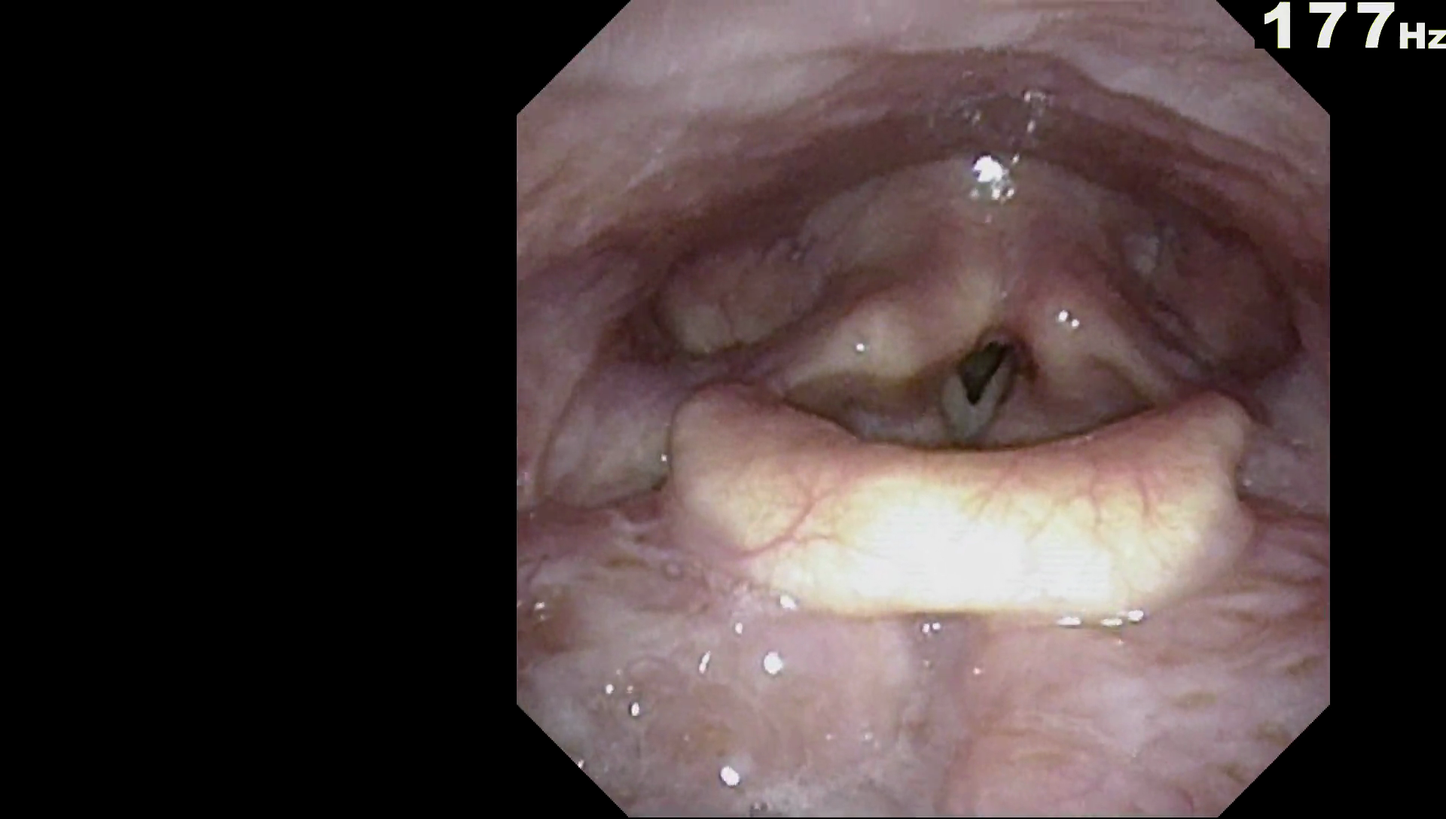trachea: (923, 319, 1044, 459)
